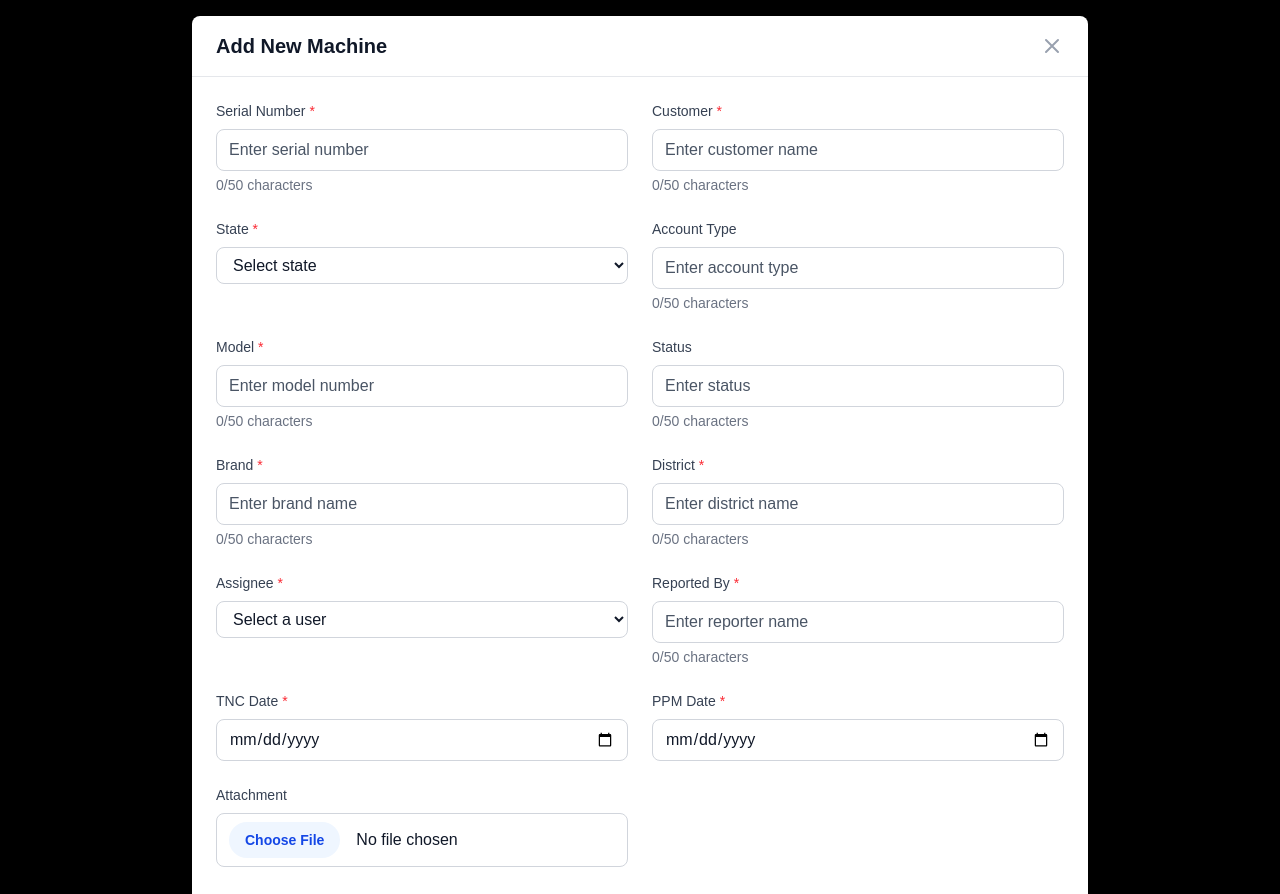
Scenario: MachineModal › assignee field › explains that the selected user will be notified
Select "jane.smith (jane@example.com)" in the dropdown labelled "Assignee *" at (422, 620), box [216,601,628,638]
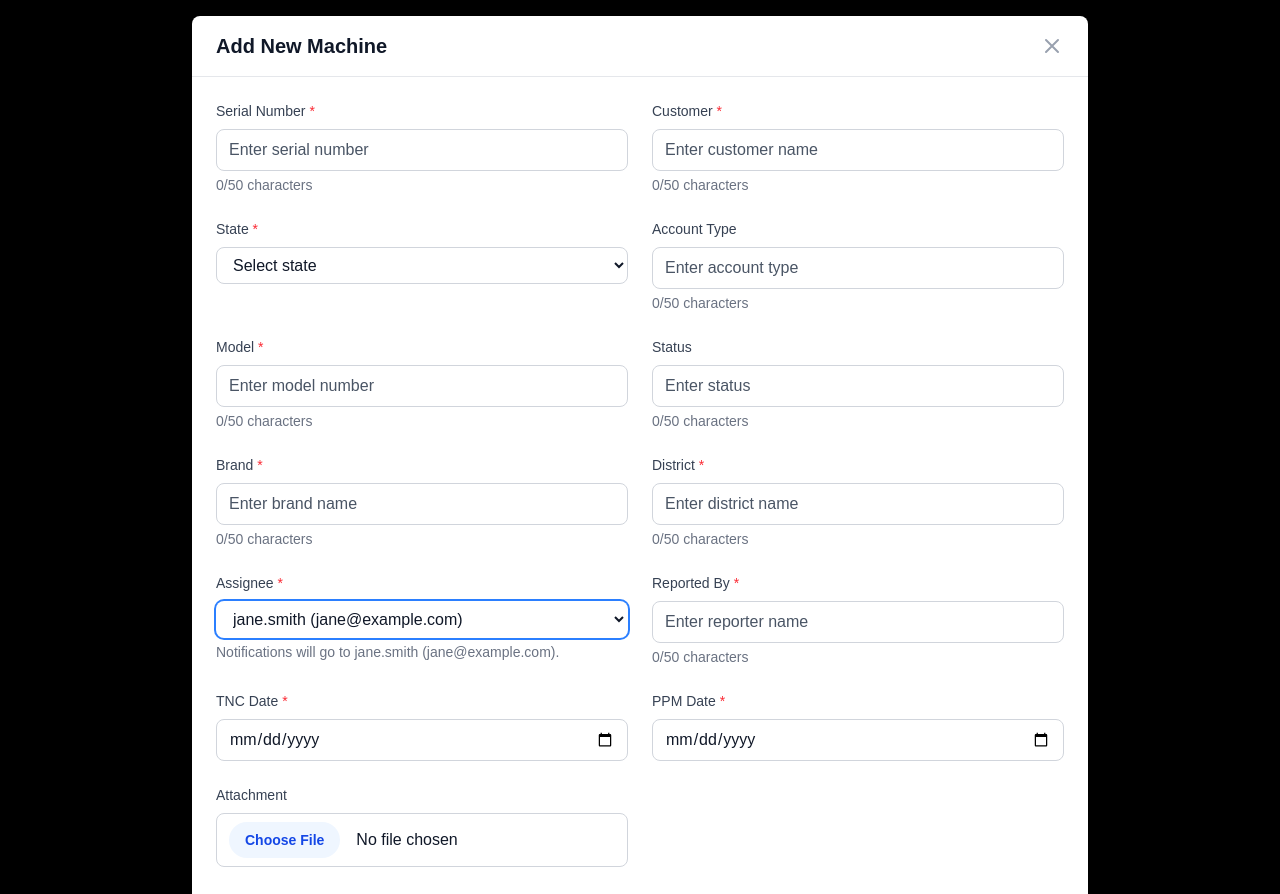
Expected: the text "Notifications will go to jane.smith (jane@example.com)." is shown, [216,644,559,660]
